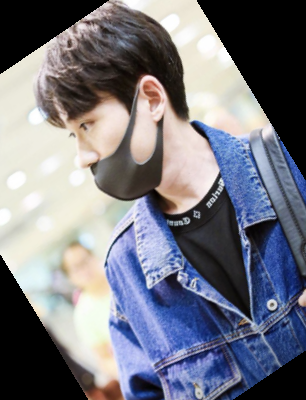mask_weared_incorrect: (27, 12, 228, 203)
